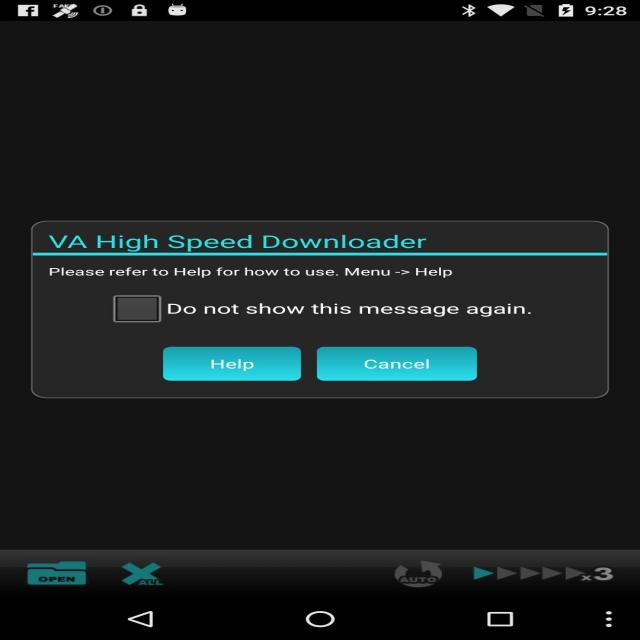button: (147, 342, 505, 392)
icon: (97, 284, 171, 328)
text: (42, 226, 490, 284), (171, 296, 543, 322), (356, 357, 448, 375), (198, 352, 262, 371)
